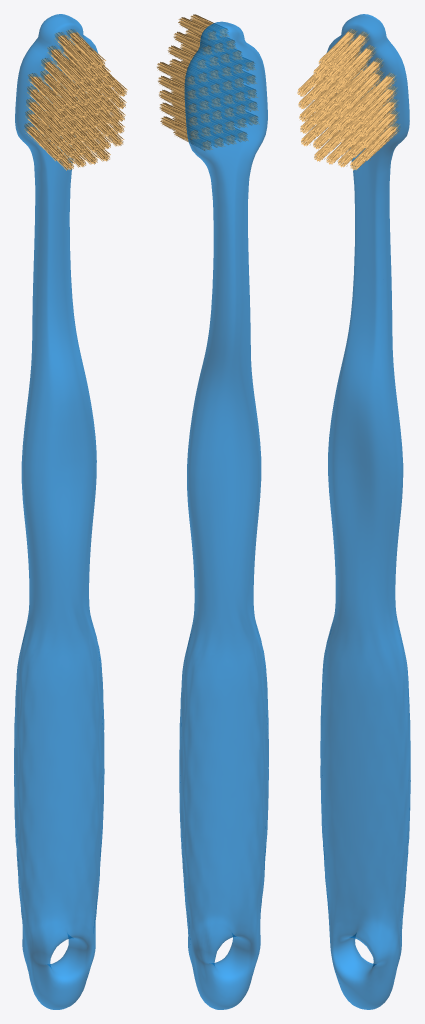
The model's file is toothbrush.glb.
3 renders of one model, left to right at view 1: azimuth 30°, elevation 25°; view 2: azimuth 210°, elevation 25°; view 3: azimuth 330°, elevation 25°, orthographic.
Parts seen in each view (by area): view 1: Object_2, Object_3; view 2: Object_2, Object_3; view 3: Object_2, Object_3.
Boxes of the visible parts, x1=… form: Object_2: x1=14, y1=14, x2=104, y2=1009; Object_3: x1=24, y1=29, x2=127, y2=170; Object_2: x1=179, y1=21, x2=268, y2=1009; Object_3: x1=157, y1=14, x2=259, y2=150; Object_2: x1=320, y1=14, x2=410, y2=1009; Object_3: x1=297, y1=28, x2=400, y2=170.
Size of the model in its own units: 23.29 by 263 by 26.65.
